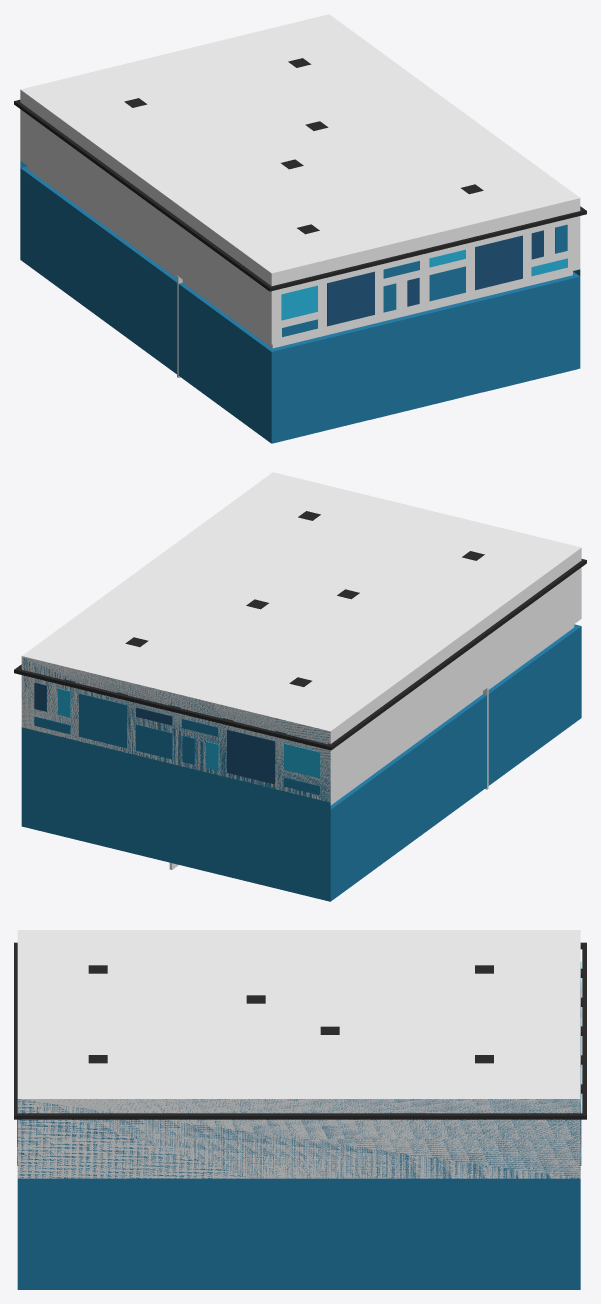
The model's file is hall flip.fbx.
The picture shows the model from 3 angles, top to bottom: view 1: azimuth 30°, elevation 25°; view 2: azimuth 150°, elevation 25°; view 3: azimuth 270°, elevation 25°; orthographic projection. The views are drawn at different scales.
Parts seen in each view (by area): view 1: Cube, Cube.061, Plane.011; view 2: Cube, Cube.044, Cube.065, Plane.011; view 3: Cube, Cube.044, Plane.011.
Boxes of the visible parts, box(x1,y1,x2,y2) form: Cube: box(20, 14, 580, 443); Cube.061: box(281, 224, 567, 337); Plane.011: box(14, 99, 586, 291); Cube: box(21, 472, 581, 901); Cube.044: box(21, 658, 330, 901); Cube.065: box(34, 682, 320, 795); Plane.011: box(14, 559, 586, 750); Cube: box(17, 930, 580, 1289); Cube.044: box(17, 1099, 580, 1289); Plane.011: box(14, 942, 586, 1119).
Size of the model in its own units: 2048 by 1096 by 2859.
